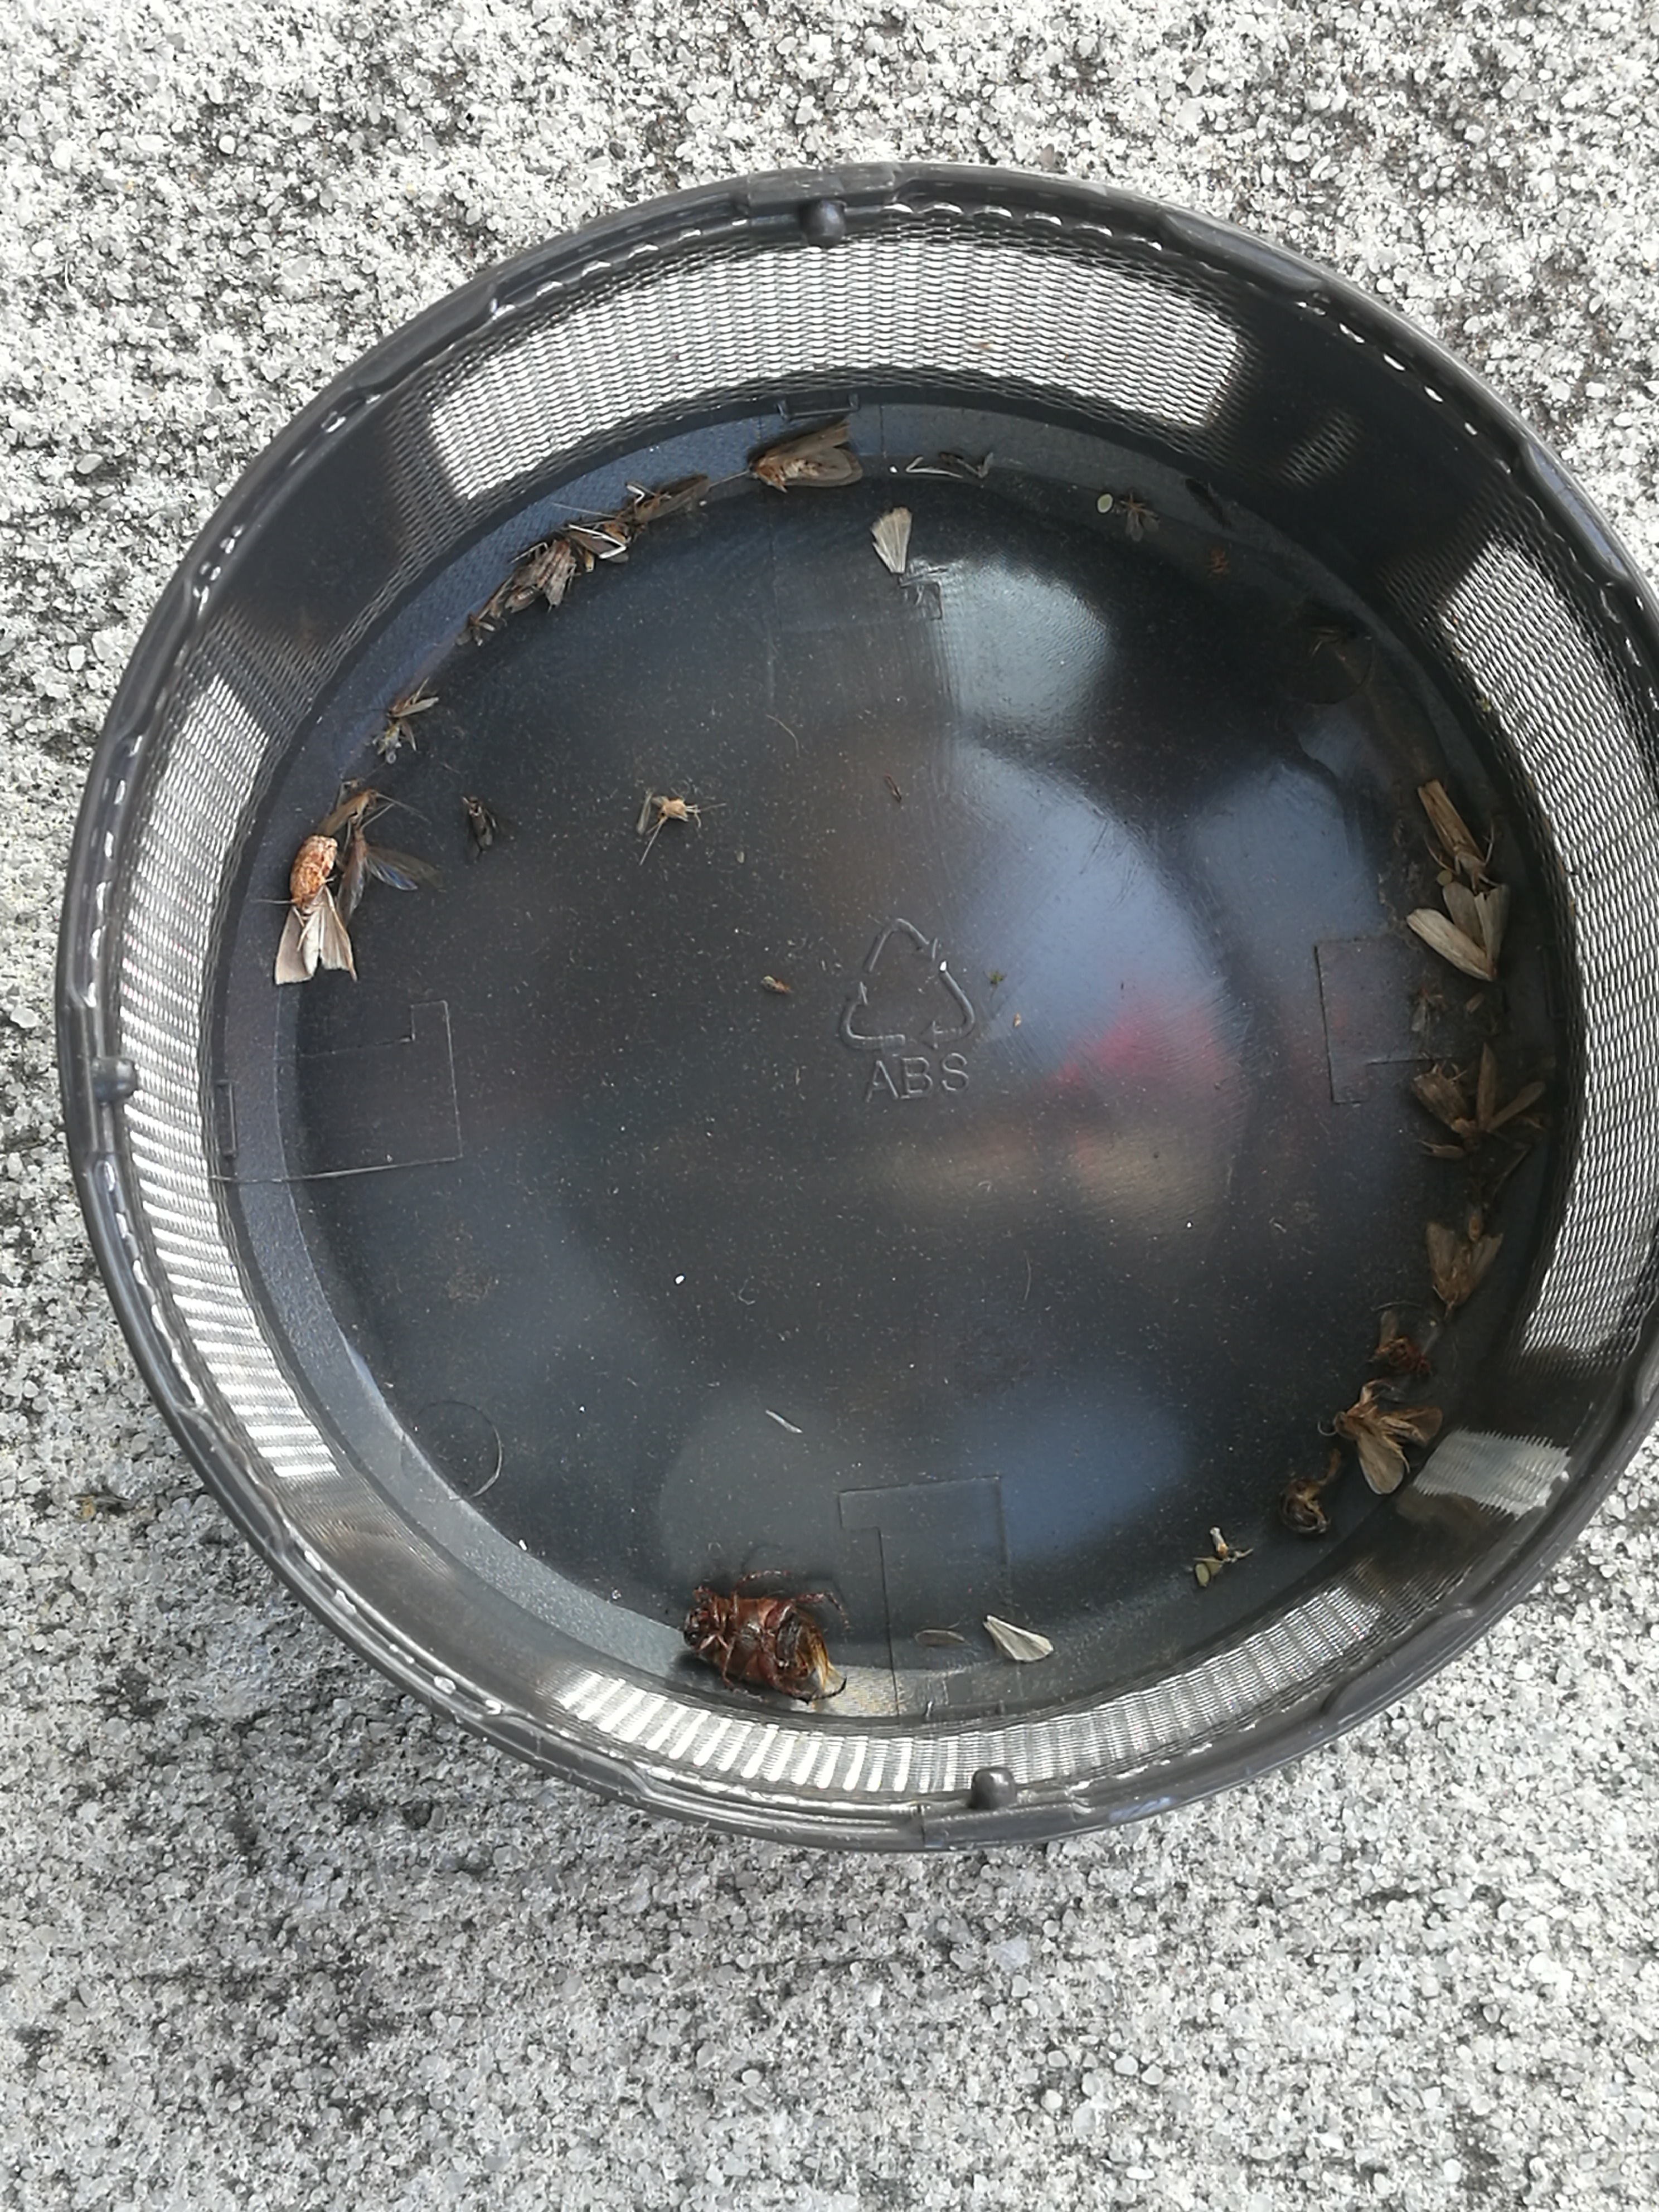beetle: (683, 1597, 821, 1688)
mosquito: (1420, 782, 1485, 878), (633, 475, 709, 523), (321, 791, 376, 836), (568, 529, 629, 563)
moth: (1406, 885, 1509, 979), (340, 829, 436, 927), (1342, 1404, 1443, 1494), (751, 418, 863, 488), (275, 888, 354, 984), (1427, 1221, 1502, 1308), (516, 540, 570, 603), (289, 836, 336, 902)
